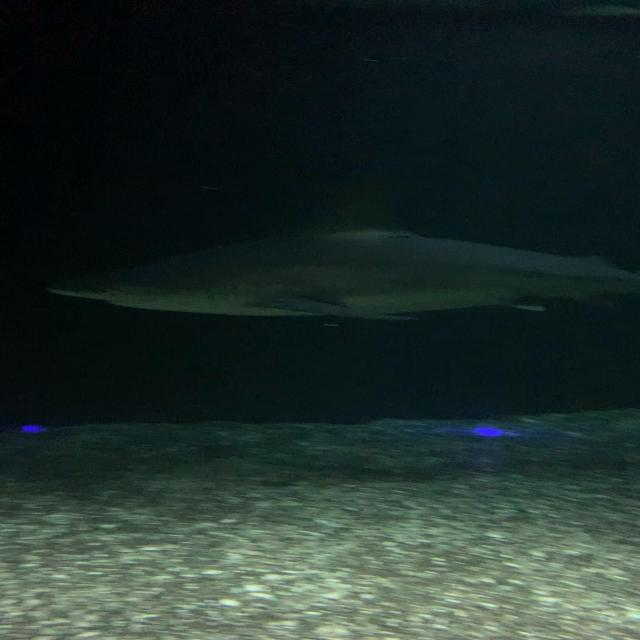shark: (44, 188, 640, 320)
